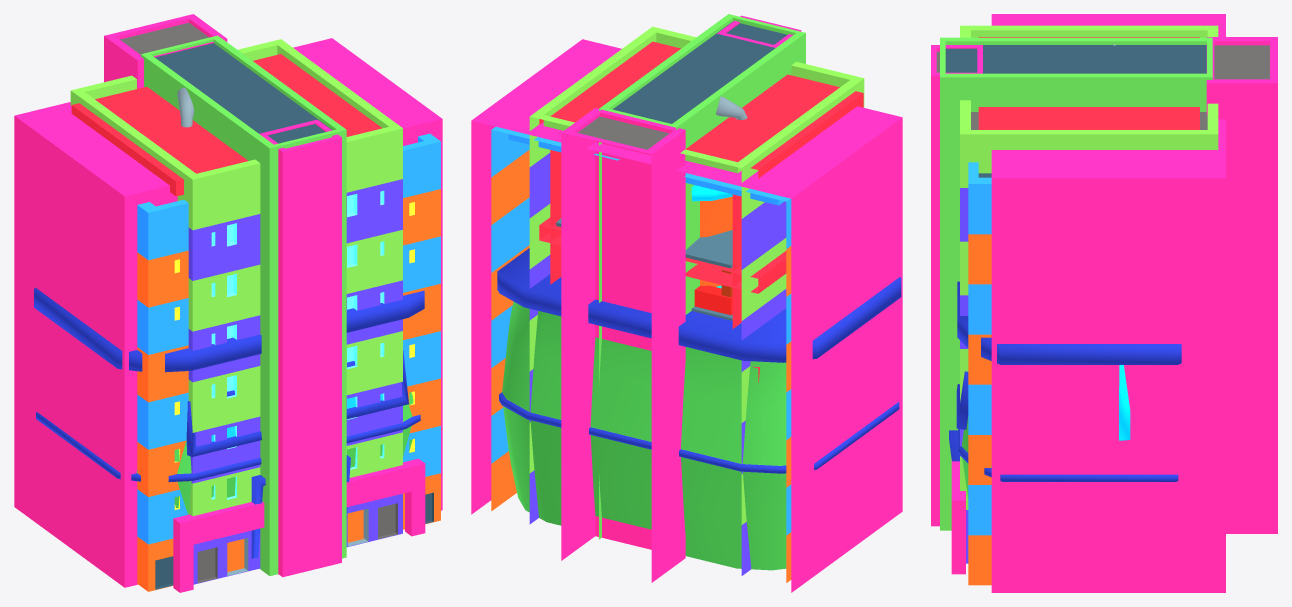
File: Predios.fbx
3 views of the same model, side by side, from view 1: azimuth 30°, elevation 25°; view 2: azimuth 150°, elevation 25°; view 3: azimuth 270°, elevation 25° (orthographic). The views are drawn at different scales.
Visible parts, largest first — view 1: PredioCond2, PredioCond, Casa, PredioCond3, JanelasPredioCond2, JanelasPredioCond; view 2: PredioCond2, Casa, PredioCond, PredioCond3, PredioBR, PredioCil; view 3: PredioCond2, PredioCond, Casa, PredioCond3, PredioCil.
Boxes of the visible parts, x1,y1,x2,y2 form: PredioCond2: (14,14,442,592); PredioCond: (137,35,440,591); Casa: (34,287,424,558); PredioCond3: (71,54,381,196); JanelasPredioCond2: (211,190,384,499); JanelasPredioCond: (174,202,414,509); PredioCond2: (471,15,902,592); Casa: (497,248,901,570); PredioCond: (491,14,805,582); PredioCond3: (539,41,863,382); PredioBR: (556,218,732,320); PredioCil: (691,96,747,288); PredioCond2: (931,14,1277,592); PredioCond: (940,37,1212,585); Casa: (949,281,1181,497); PredioCond3: (978,37,1199,129); PredioCil: (1113,44,1130,440).
Size of the model in its own units: 9.12 by 11.53 by 7.99.
